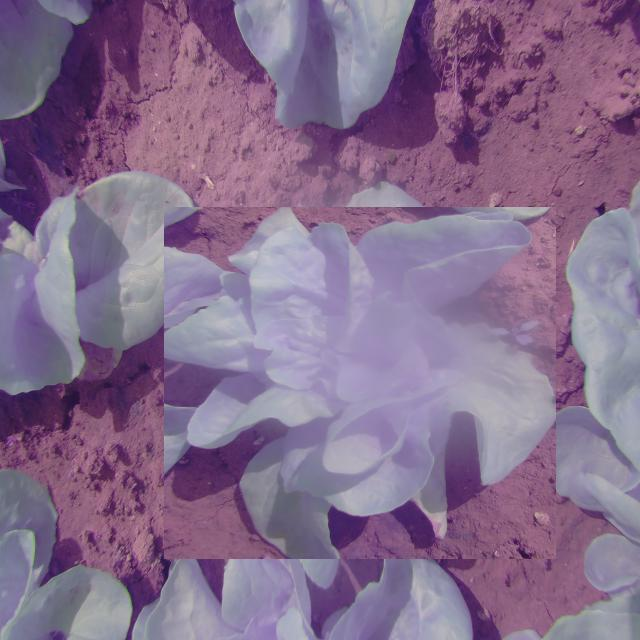vege: (174, 196, 546, 569)
